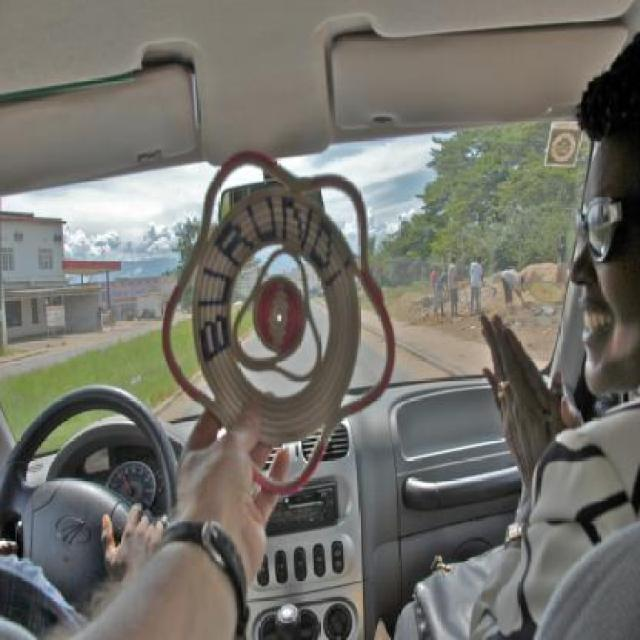face_nomask: (564, 204, 636, 364)
glasses: (572, 182, 638, 264)
hand_noglove: (176, 389, 290, 556), (472, 312, 570, 474)
